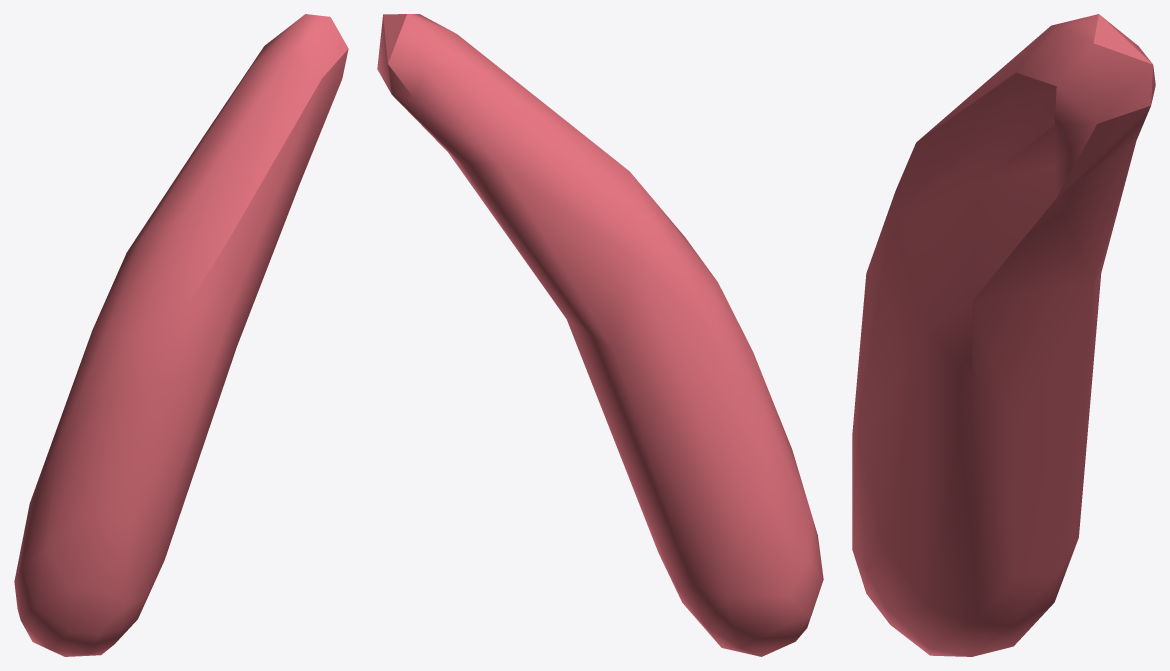
The model's file is fma8661_fj6137.glb.
The picture shows the model from 3 angles, left to right: view 1: azimuth 30°, elevation 25°; view 2: azimuth 150°, elevation 25°; view 3: azimuth 270°, elevation 25°; orthographic projection. The views are drawn at different scales.
Visible parts, largest first — view 1: FMA8661_FJ6137; view 2: FMA8661_FJ6137; view 3: FMA8661_FJ6137.
Part boxes in pixels (x1=…): FMA8661_FJ6137: x1=14, y1=14, x2=348, y2=656; FMA8661_FJ6137: x1=377, y1=14, x2=823, y2=656; FMA8661_FJ6137: x1=852, y1=14, x2=1155, y2=656.
Size of the model in its own units: 0.00604 by 0.00886 by 0.00288.
